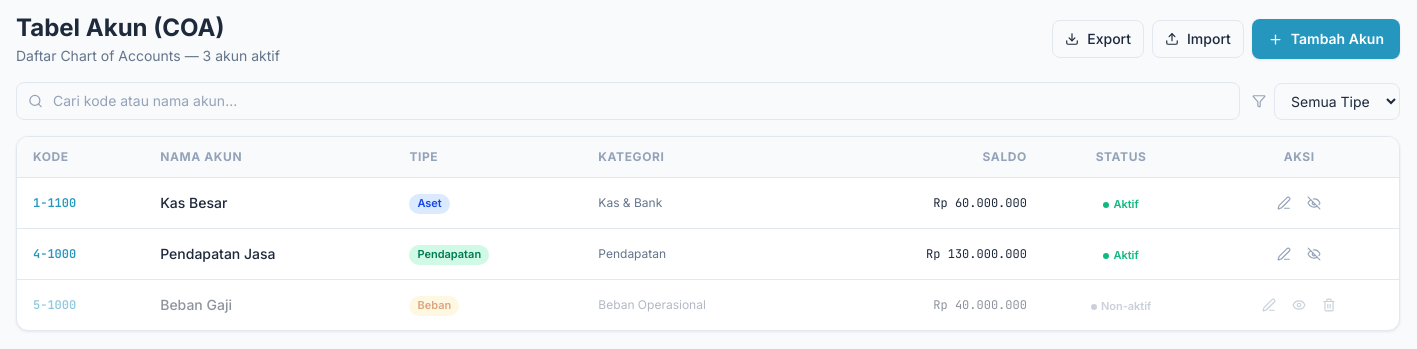
Test: AccountsPage › search berdasarkan kode atau nama
Expected: the text "Kas Besar" is shown, top-left (144, 178), bottom-right (393, 228)
Type "Gaji" into the field with placeholder "Cari kode atau nama akun..." at (628, 101), box top-left (16, 82), bottom-right (1240, 120)
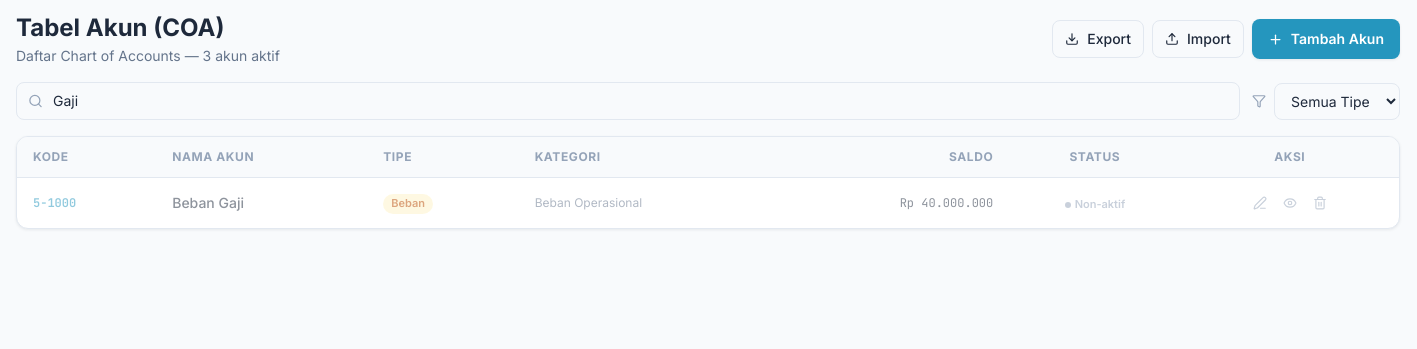
Expected: the text "Beban Gaji" is shown, top-left (156, 178), bottom-right (367, 228)
Expected: the text "Kas Besar" is gone
